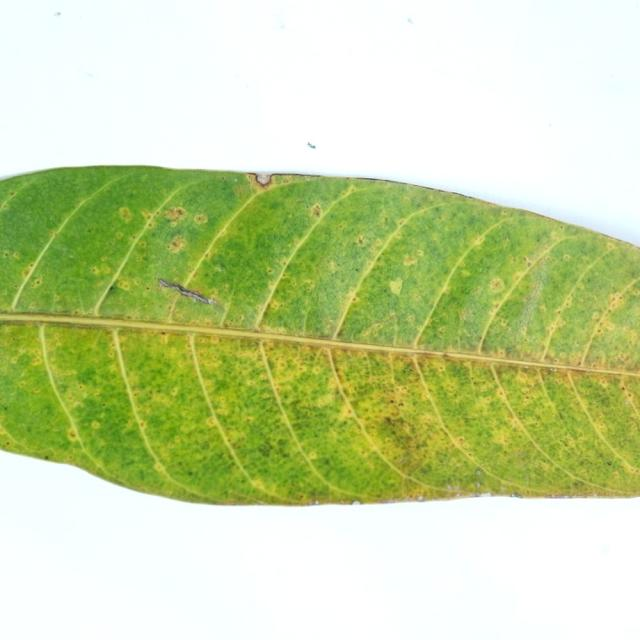Mango: (0, 166, 639, 504)
Powdery_Mildew: (376, 411, 425, 459), (541, 309, 572, 343), (251, 431, 285, 461), (159, 236, 198, 257), (159, 203, 188, 229), (303, 201, 329, 225), (485, 274, 509, 300), (89, 263, 113, 277), (383, 415, 403, 430), (620, 387, 636, 403), (118, 206, 133, 222), (615, 351, 632, 364), (403, 254, 419, 266), (600, 321, 616, 332), (194, 213, 208, 225), (326, 260, 339, 272), (118, 280, 132, 291), (612, 294, 625, 305), (355, 234, 367, 245), (269, 299, 281, 310), (474, 236, 486, 247), (372, 239, 383, 250), (205, 417, 217, 427), (160, 333, 170, 345), (170, 387, 181, 397), (22, 267, 32, 277), (592, 311, 602, 320), (308, 451, 318, 460), (12, 252, 22, 260), (10, 357, 20, 365), (91, 421, 100, 429), (115, 232, 124, 240), (138, 241, 147, 249), (33, 278, 42, 286), (397, 218, 406, 226), (49, 230, 58, 238), (437, 326, 446, 334), (144, 212, 153, 220), (406, 314, 415, 322), (499, 319, 508, 327), (564, 299, 573, 307), (266, 267, 274, 275), (177, 208, 185, 216), (563, 254, 571, 261), (69, 431, 77, 438), (416, 249, 424, 256), (3, 251, 11, 258), (54, 294, 62, 301), (353, 296, 360, 303), (525, 259, 532, 266), (239, 314, 246, 321), (280, 259, 288, 265), (281, 273, 288, 279), (10, 190, 16, 196), (556, 309, 562, 314), (505, 236, 510, 242), (148, 223, 153, 228)
